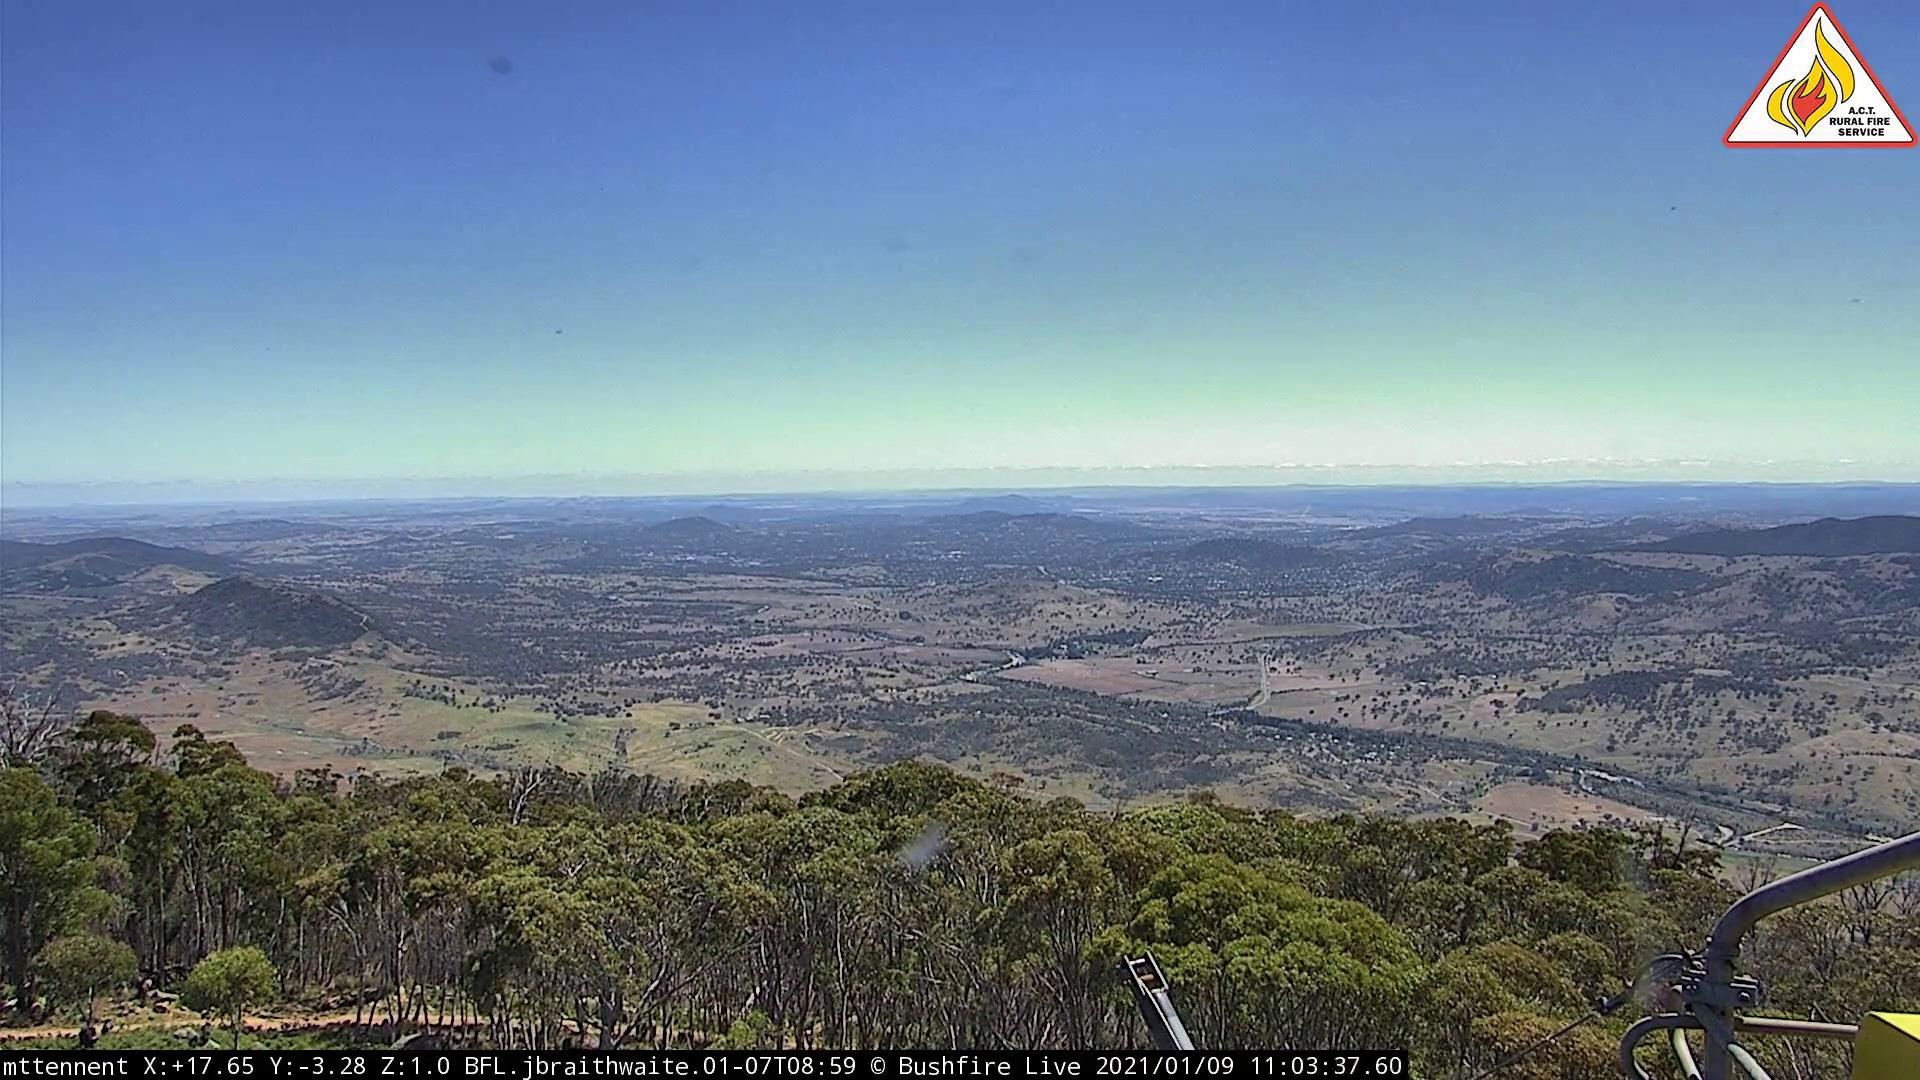Smoke: (3, 3, 1920, 1080), (1299, 502, 1317, 521)
